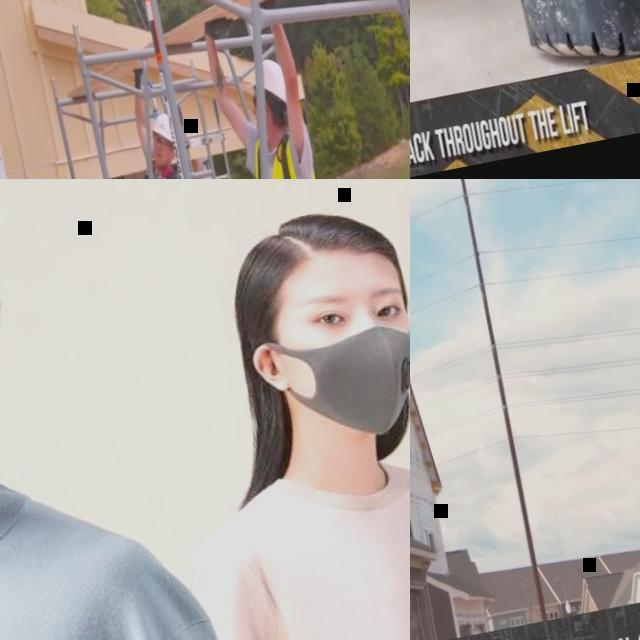helmet: (244, 54, 290, 109), (149, 112, 174, 145)
mask: (252, 313, 410, 457)
no_helmet: (218, 190, 404, 308)
no_mask: (153, 145, 172, 165)
no_vest: (225, 458, 410, 640), (0, 491, 149, 640)
person: (117, 181, 410, 640), (0, 179, 274, 640), (196, 0, 392, 179), (410, 0, 640, 131), (98, 63, 239, 179)
vest: (238, 129, 343, 179)
